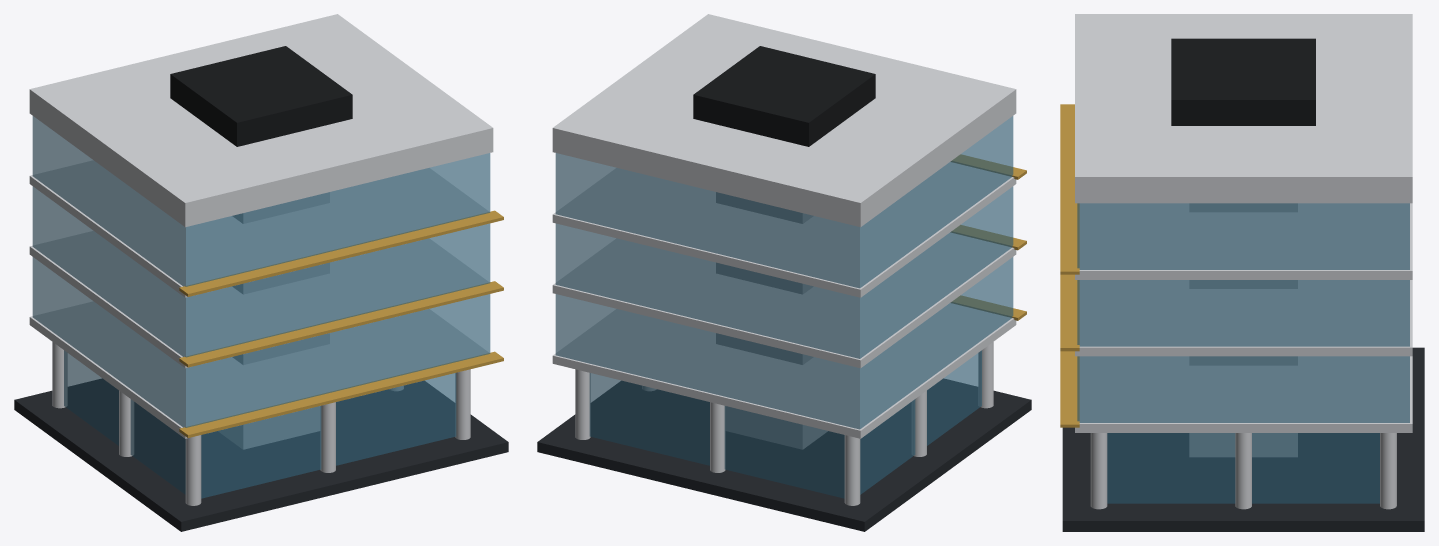
The model's file is edificio.glb.
The picture shows the model from 3 angles, left to right: view 1: azimuth 30°, elevation 25°; view 2: azimuth 150°, elevation 25°; view 3: azimuth 270°, elevation 25°; orthographic projection. The views are drawn at different scales.
Bounding box in the file's own units: 17 × 17.2 × 15.1.
